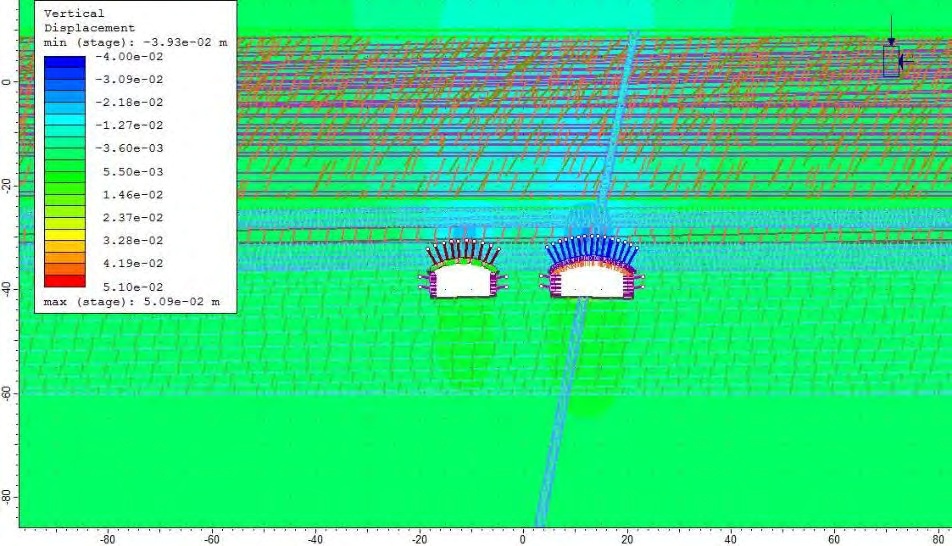crown: (575, 240, 607, 256), (453, 244, 476, 258)
label: (35, 0, 237, 314)
tunnel-opening: (552, 257, 634, 296), (429, 260, 496, 298)
